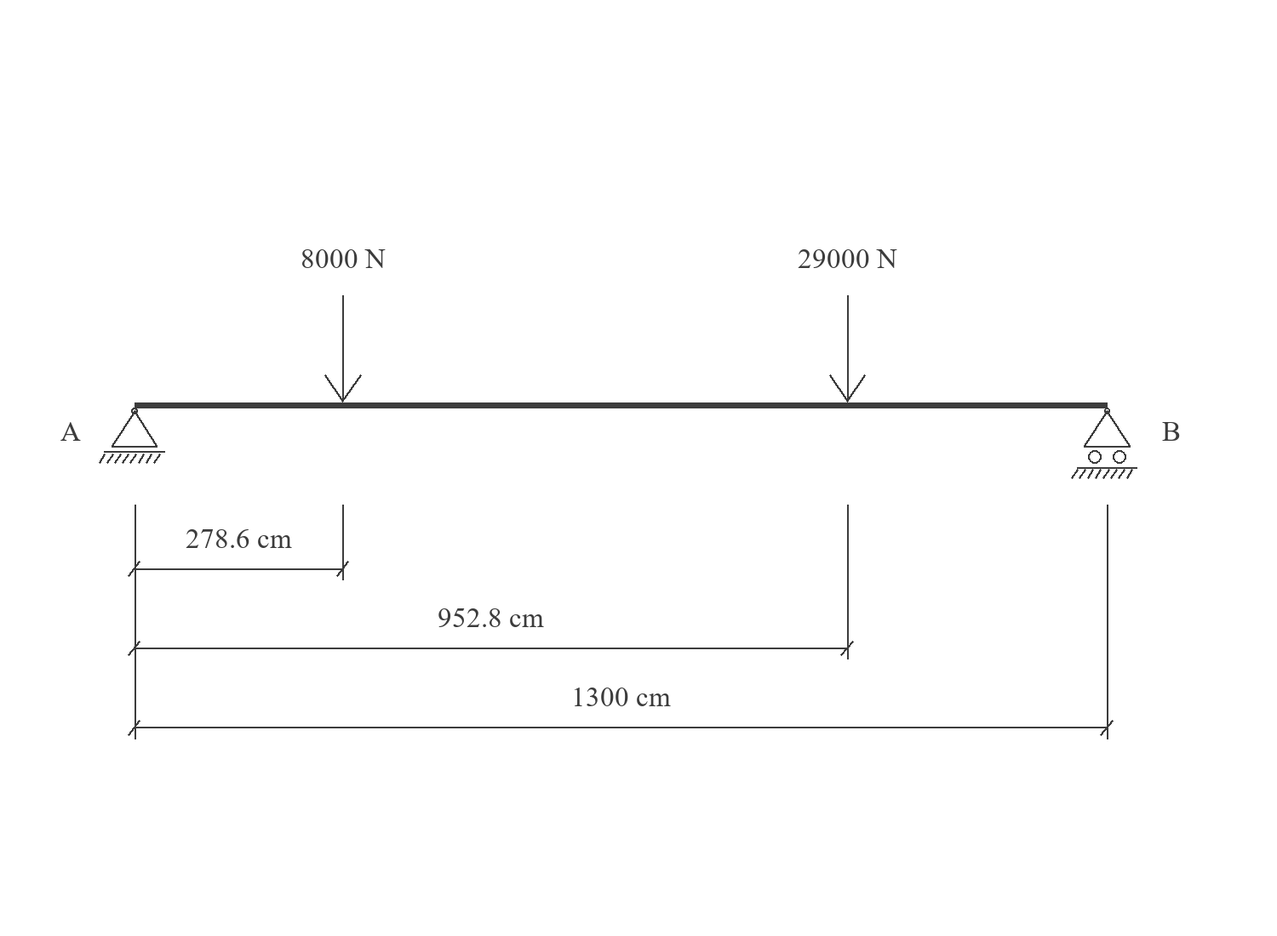pin_support: (99, 408, 165, 464)
point_load: (324, 295, 362, 402), (829, 295, 866, 402)
roller_support: (1071, 408, 1137, 479)
